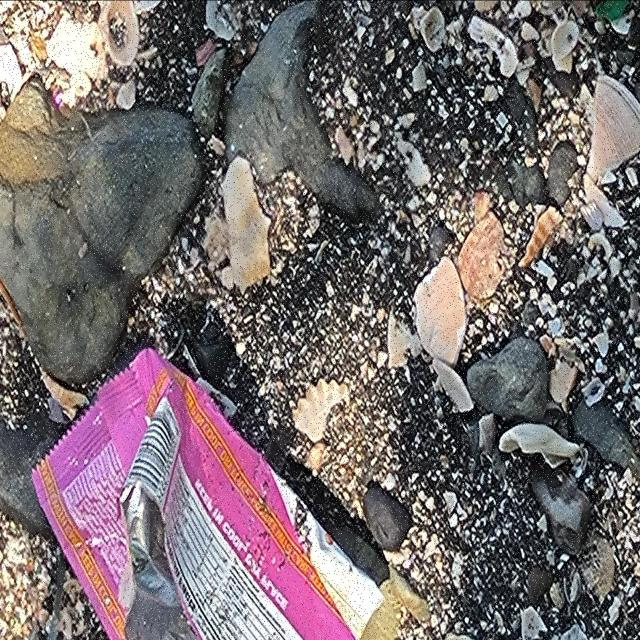plastic_waste: (31, 346, 388, 640)
